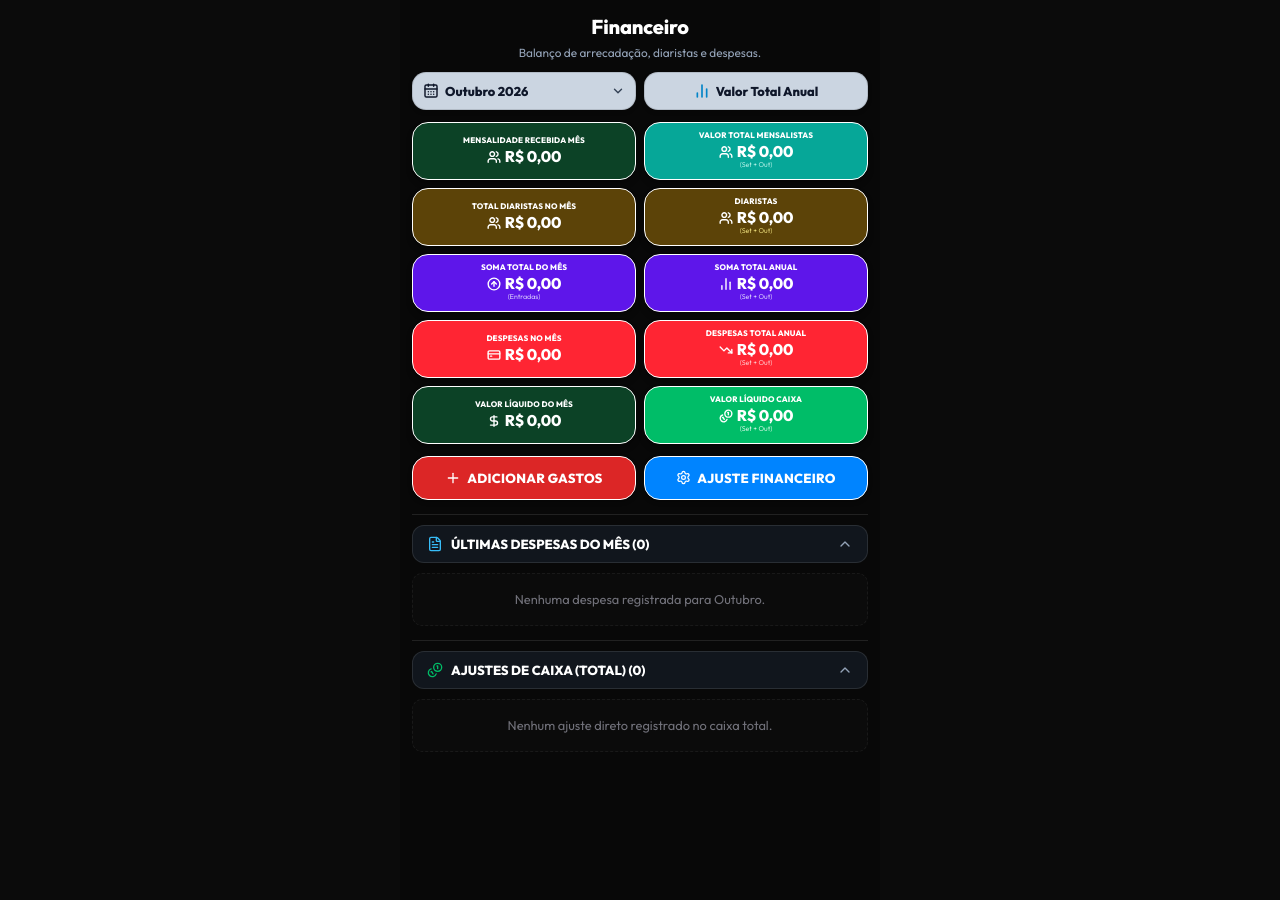
Test case: Financeiro Component — RDA Reprodução Fiel do Layout Mobile › ETAPA 1 — Cabeçalho e Controles Superiores › deve abrir o modal de Resumo Anual ao clicar em Valor Total Anual
expect the text "Valor Total Anual" is shown: met, box left=716, top=83, right=818, bottom=99
Click the button "Valor Total Anual": (756, 91) left=644, top=72, right=868, bottom=110
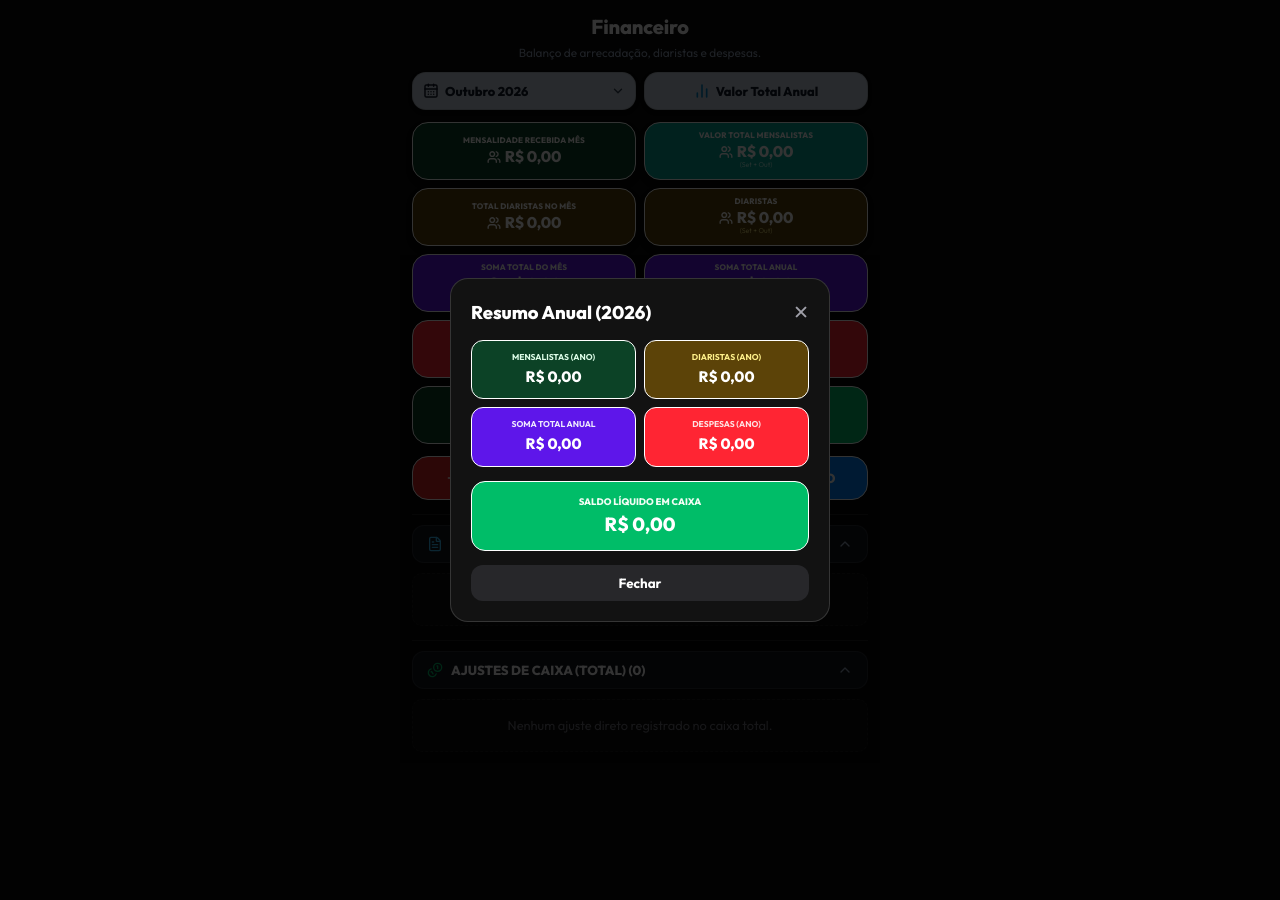
expect the heading "Resumo Anual (2026)" is shown: met, box left=471, top=299, right=651, bottom=326
expect the text "MENSALISTAS (ANO)" is shown: met, box left=512, top=351, right=595, bottom=362
expect the text "DIARISTAS (ANO)" is shown: met, box left=692, top=351, right=761, bottom=362
